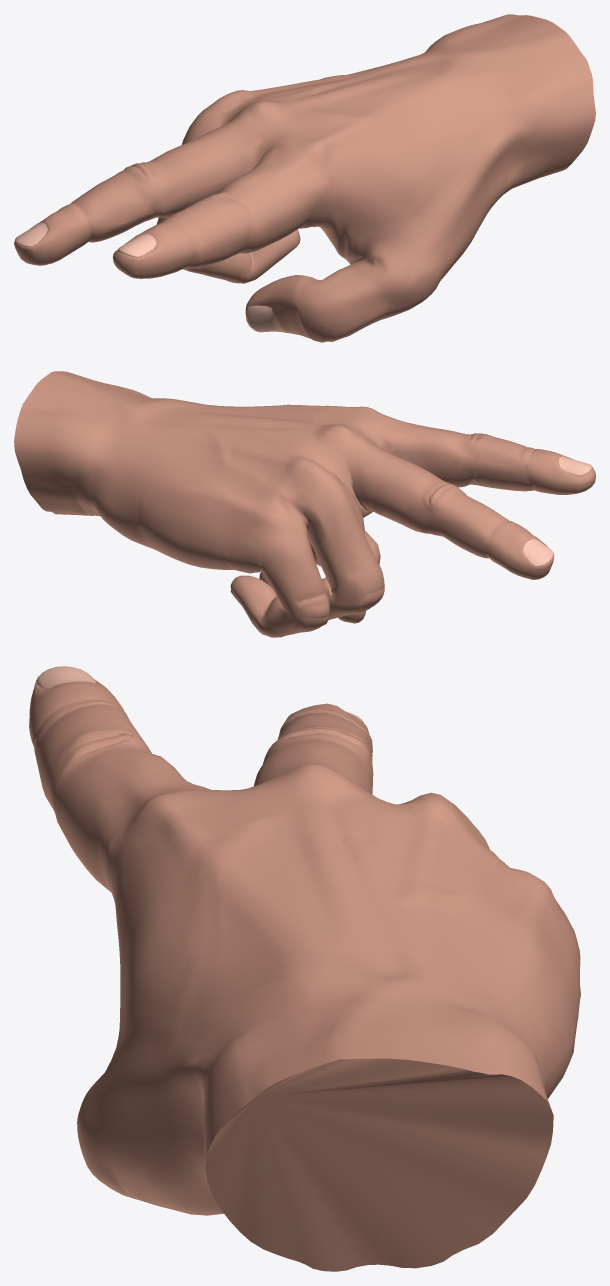
The model's file is hand_32.obj.
The picture shows the model from 3 angles, top to bottom: view 1: azimuth 30°, elevation 25°; view 2: azimuth 150°, elevation 25°; view 3: azimuth 270°, elevation 25°; orthographic projection. The views are drawn at different scales.
Parts seen in each view (by area): view 1: Figure_2; view 2: Figure_2; view 3: Figure_2.
Part boxes in pixels (left/top/right/bottom): Figure_2: left=14, top=14, right=595, bottom=342; Figure_2: left=14, top=371, right=595, bottom=637; Figure_2: left=29, top=666, right=580, bottom=1271.
Bounding box in the file's own units: 0.8946 × 0.342 × 0.4283.
